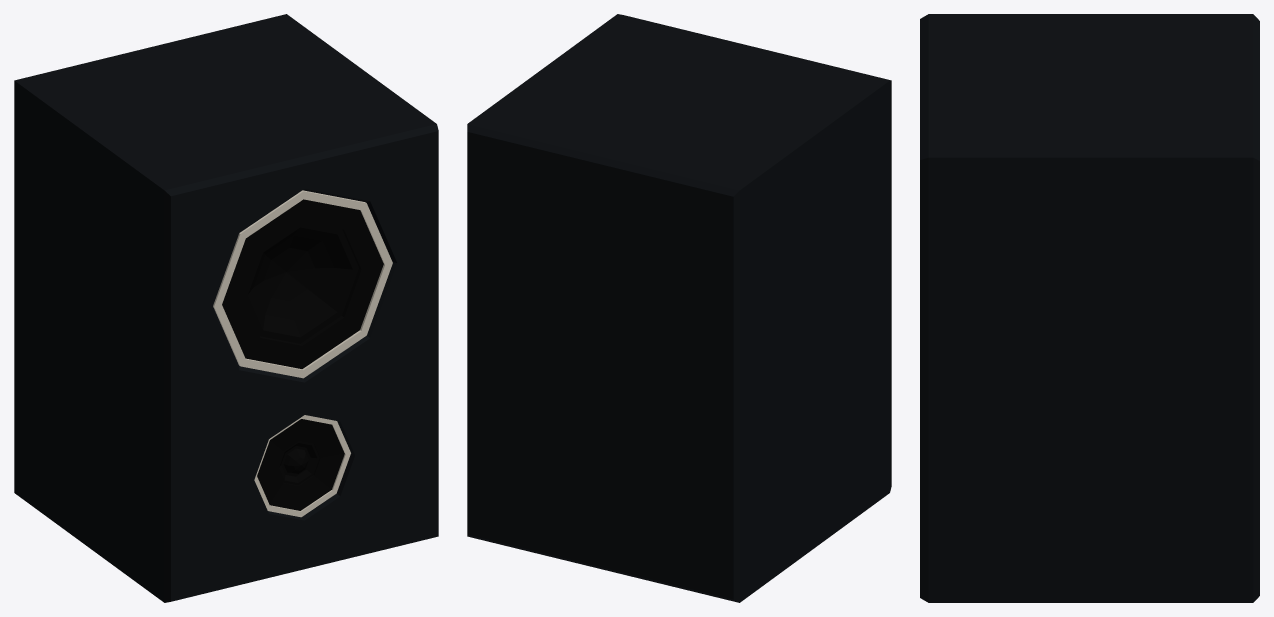
Rendered from speaker.glb.
The picture shows the model from 3 angles, left to right: view 1: azimuth 30°, elevation 25°; view 2: azimuth 150°, elevation 25°; view 3: azimuth 270°, elevation 25°; orthographic projection. The views are drawn at different scales.
Visible parts, largest first — view 1: Buffer Layer (×3); view 2: Buffer Layer; view 3: Buffer Layer.
Part boxes in pixels (x1,y1,x2,y2): Buffer Layer (×3): [14, 14, 438, 602]; Buffer Layer: [467, 14, 891, 602]; Buffer Layer: [920, 14, 1259, 602].
Bounding box in the file's own units: 0.0691 × 0.1 × 0.0691.
